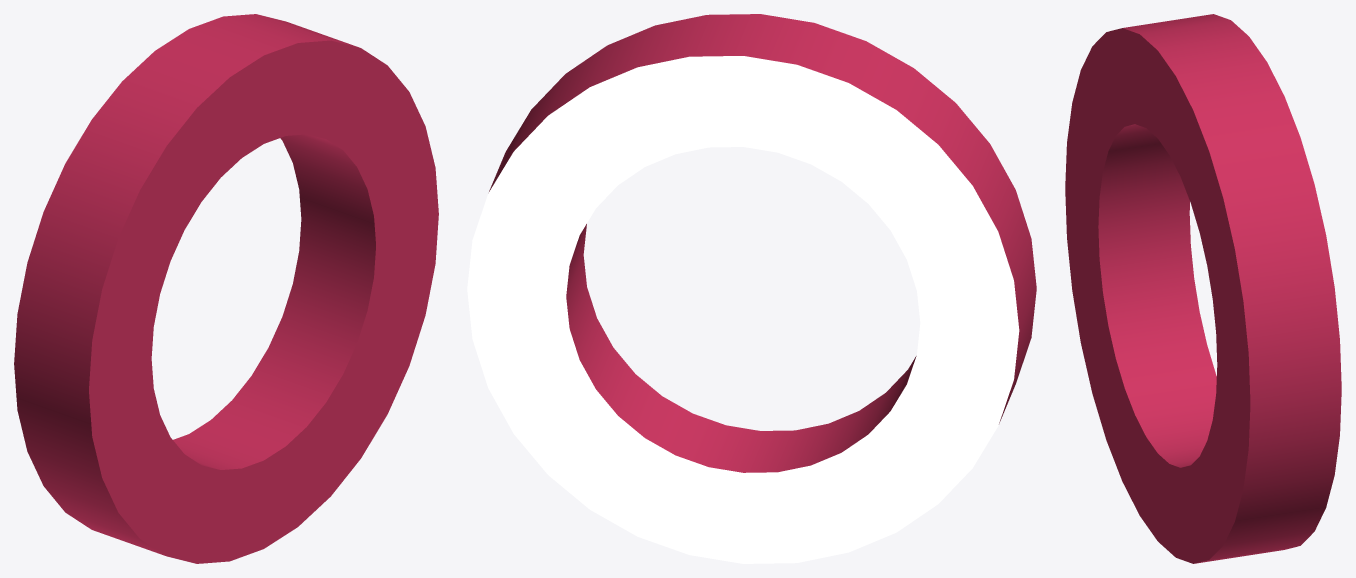
The model's file is toronto-sign.008.gltf.
3 renders of one model, left to right at view 1: azimuth 30°, elevation 25°; view 2: azimuth 150°, elevation 25°; view 3: azimuth 270°, elevation 25°, orthographic. The views are drawn at different scales.
Parts seen in each view (by area): view 1: toronto-sign.008; view 2: toronto-sign.008; view 3: toronto-sign.008.
Boxes of the visible parts, x1,y1,x2,y2 form: toronto-sign.008: (14, 14, 438, 563); toronto-sign.008: (467, 14, 1036, 563); toronto-sign.008: (1065, 14, 1341, 563).
Bounding box in the file's own units: 0.6564 × 0.6557 × 0.3348.
